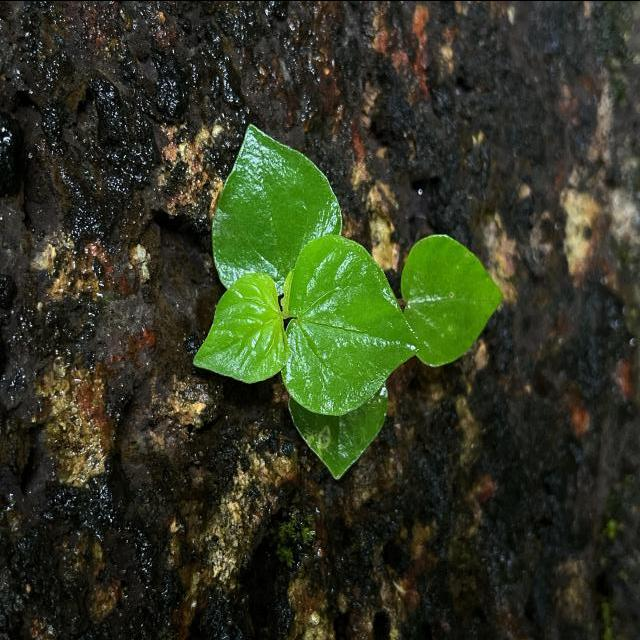Peperomia pellucida: (281, 230, 422, 418), (209, 119, 345, 298), (187, 268, 293, 384)
